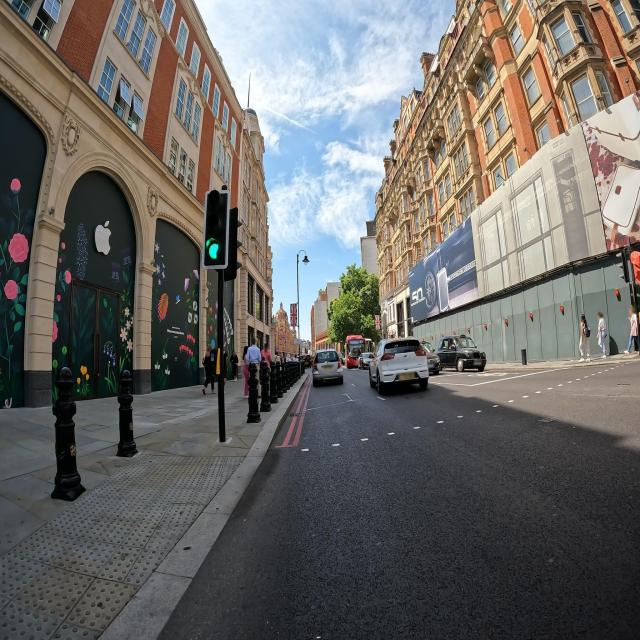car: (369, 337, 429, 393), (436, 333, 487, 372), (312, 348, 344, 387), (420, 340, 440, 374), (360, 351, 373, 369)
